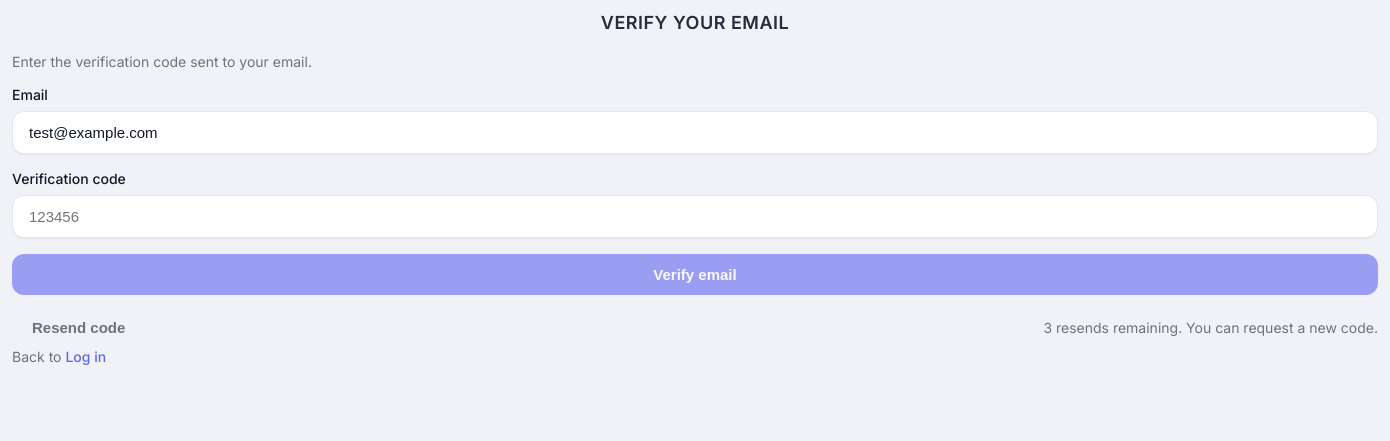
it: VerifyEmail – resend limit › should show remaining resend attempts count
The width and height of the screenshot is (1390, 441).
Click the button "Resend code" at (79, 328), box [12,307,145,348]
Wait 120000 ms
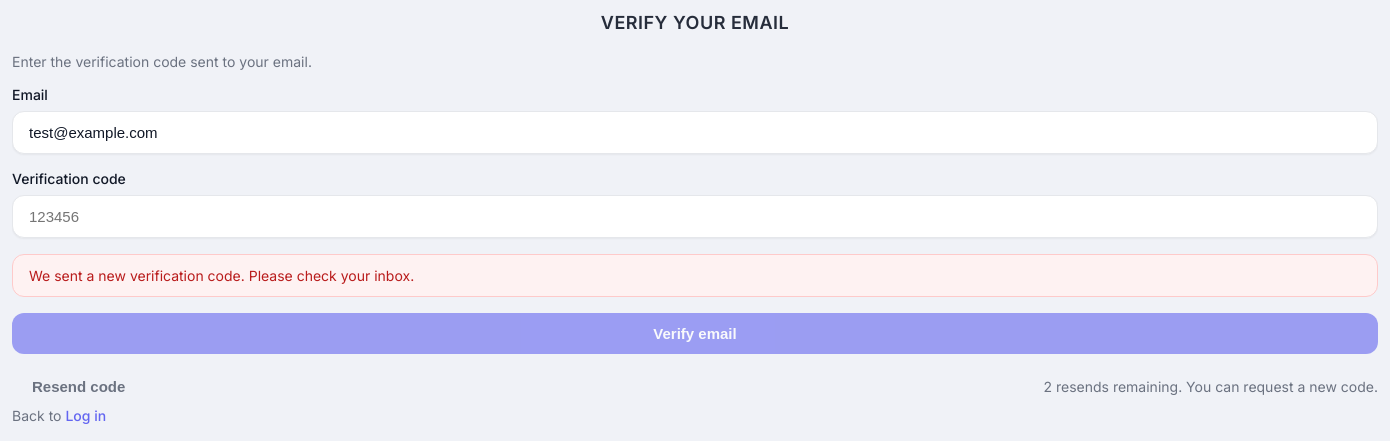
Expected: the text "2 resends remaining. You can request a new code." is shown, [1044,378,1378,395]
